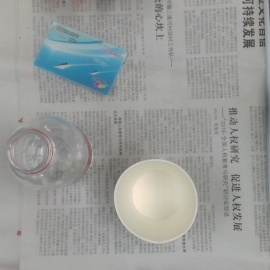bottle: (7, 116, 93, 191)
card: (34, 22, 127, 98)
cup: (112, 158, 198, 243)
